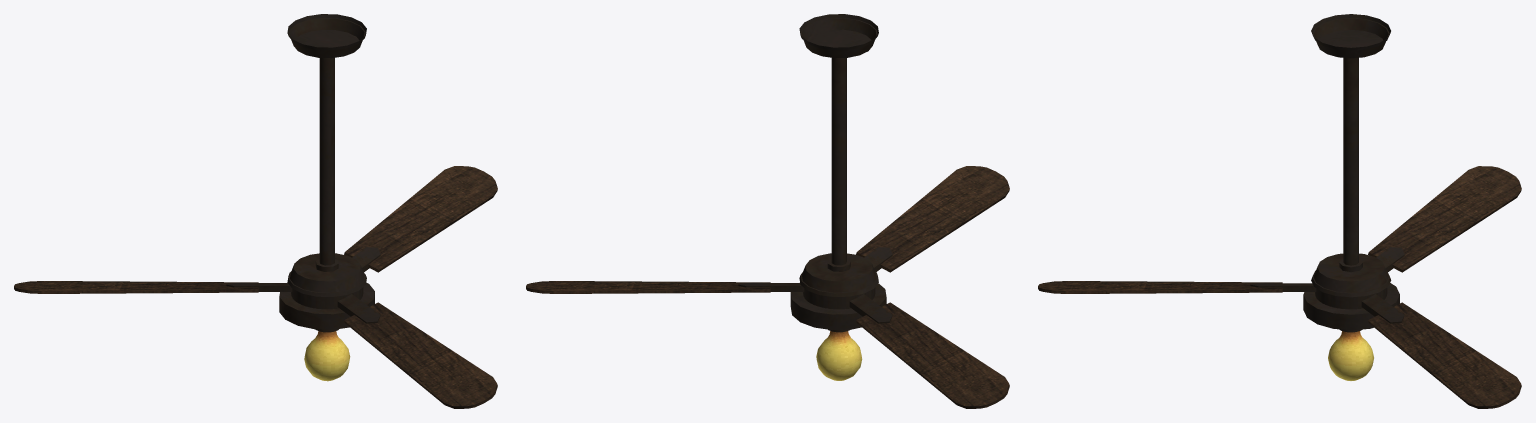
The model's file is ceiling_fan_mp_1_1_light_on.dae.
3 views of the same model, side by side, from view 1: azimuth 30°, elevation 25°; view 2: azimuth 150°, elevation 25°; view 3: azimuth 270°, elevation 25° (orthographic).
Visible parts, largest first — view 1: ceiling_fan_mp_1_1_light_on_blades, ceiling_fan_mp_1_1_light_on; view 2: ceiling_fan_mp_1_1_light_on_blades, ceiling_fan_mp_1_1_light_on; view 3: ceiling_fan_mp_1_1_light_on_blades, ceiling_fan_mp_1_1_light_on.
Boxes of the visible parts, left/top/right/bottom form: ceiling_fan_mp_1_1_light_on_blades: left=14, top=166, right=497, bottom=408; ceiling_fan_mp_1_1_light_on: left=279, top=14, right=374, bottom=381; ceiling_fan_mp_1_1_light_on_blades: left=526, top=166, right=1009, bottom=408; ceiling_fan_mp_1_1_light_on: left=790, top=14, right=886, bottom=380; ceiling_fan_mp_1_1_light_on_blades: left=1038, top=166, right=1521, bottom=408; ceiling_fan_mp_1_1_light_on: left=1303, top=14, right=1399, bottom=380.
Bounding box in the file's own units: 1.02 × 0.8979 × 0.7128.
3 materials, 3 textured.
